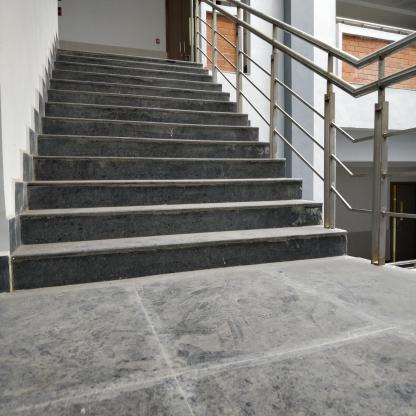stairs: (56, 58, 192, 294)
